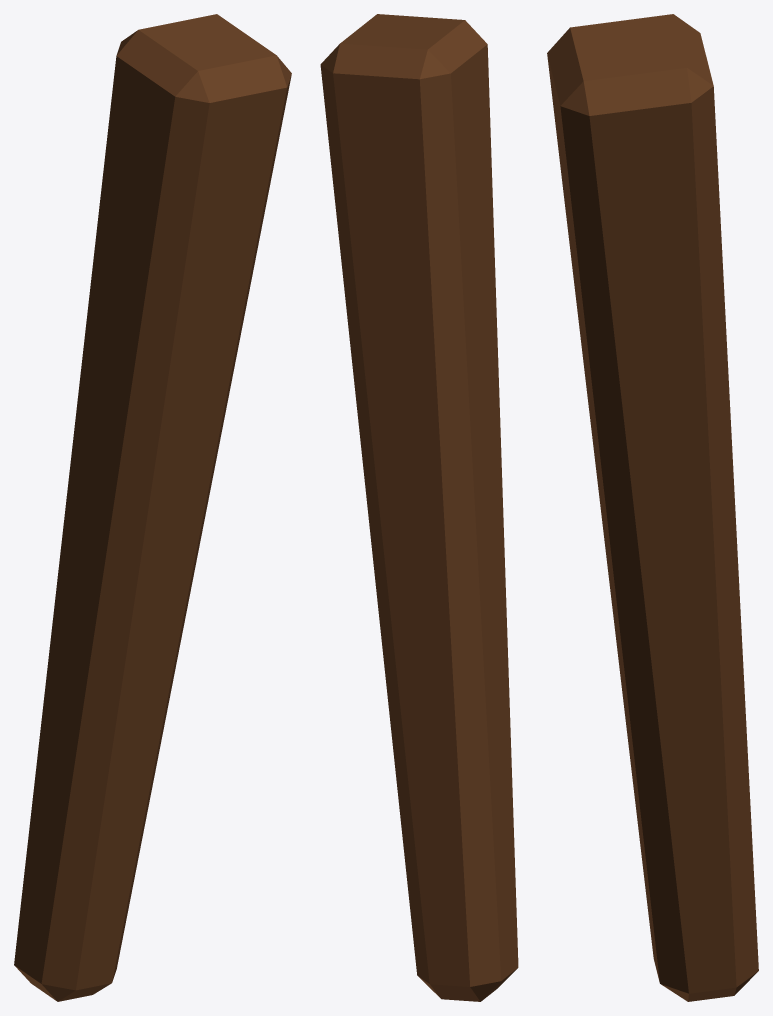
Rendered from wood.fbx.
3 renders of one model, left to right at view 1: azimuth 30°, elevation 25°; view 2: azimuth 150°, elevation 25°; view 3: azimuth 270°, elevation 25°, orthographic. The views are drawn at different scales.
Visible parts, largest first — view 1: Cube.007; view 2: Cube.007; view 3: Cube.007.
Part boxes in pixels (x1=…): Cube.007: x1=14, y1=14, x2=291, y2=1001; Cube.007: x1=320, y1=14, x2=518, y2=1001; Cube.007: x1=547, y1=14, x2=758, y2=1001.
Bounding box in the file's own units: 19.96 × 85.68 × 16.33.
